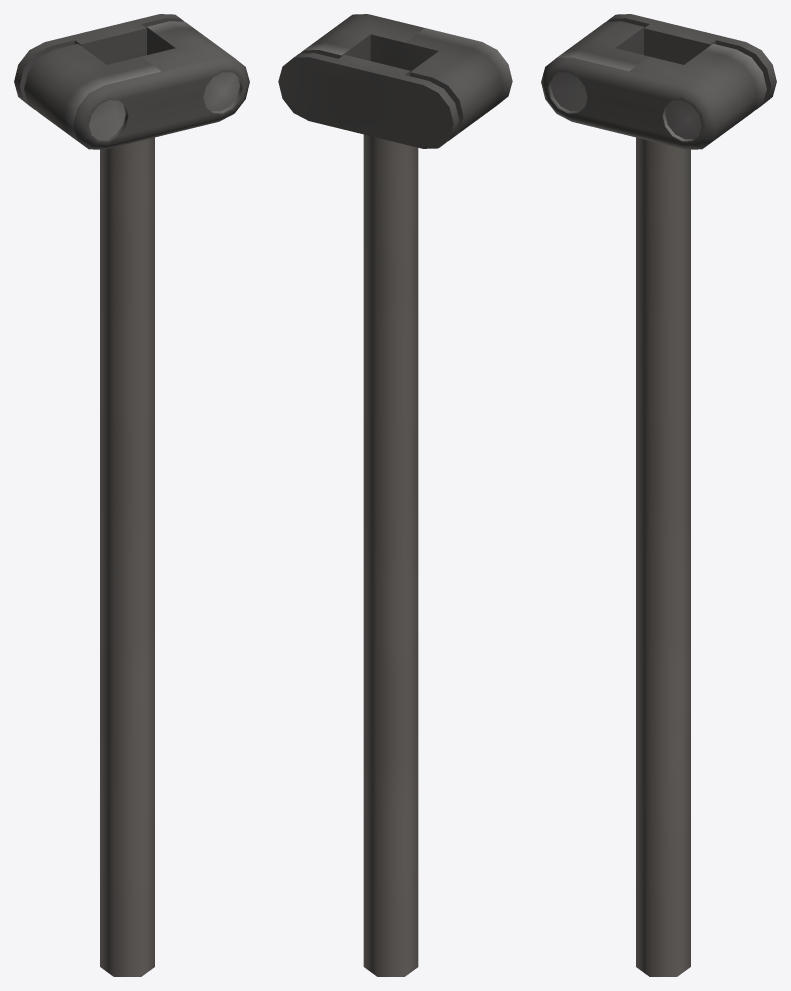
Rendered from wall-cable--2.gltf.
3 views of the same model, side by side, from view 1: azimuth 30°, elevation 25°; view 2: azimuth 150°, elevation 25°; view 3: azimuth 330°, elevation 25° (orthographic).
Parts seen in each view (by area): view 1: cable_straight_medium; view 2: cable_straight_medium; view 3: cable_straight_medium.
Part boxes in pixels (x1,y1,x2,y2): cable_straight_medium: (14, 14, 249, 976); cable_straight_medium: (278, 14, 512, 976); cable_straight_medium: (541, 14, 776, 976).
Size of the model in its own units: 0.0416 by 0.2073 by 0.0259.
Materials: 1 (1 with a texture image).
